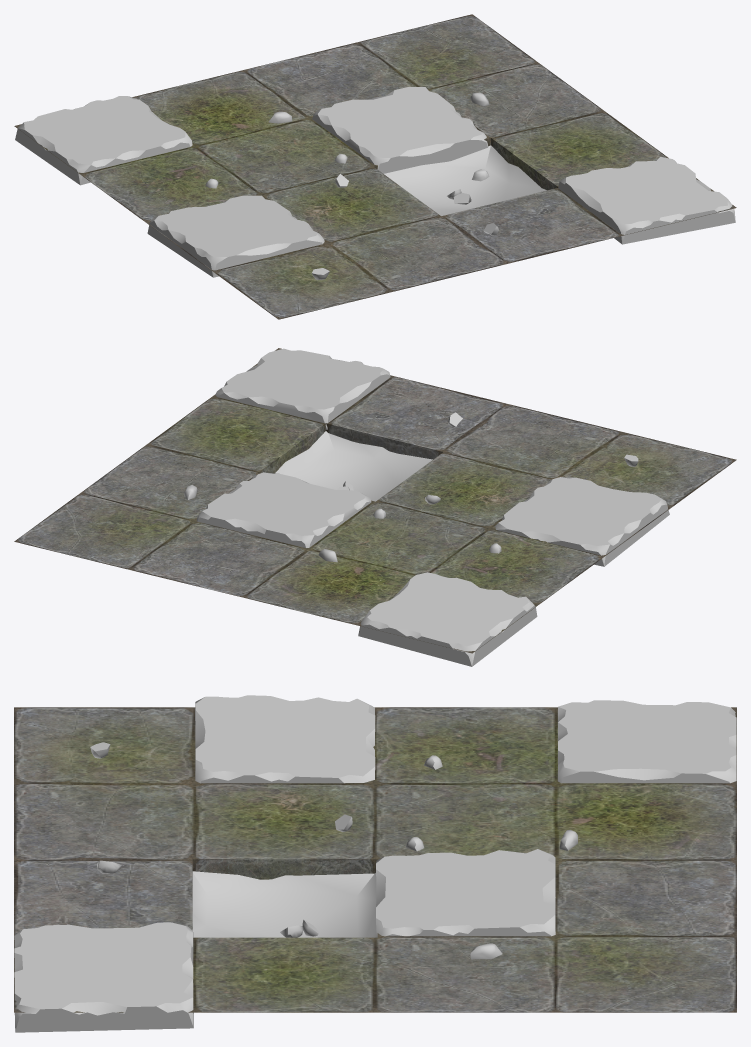
The model's file is Floor_Lvl2_8.fbx.
3 renders of one model, top to bottom at view 1: azimuth 30°, elevation 25°; view 2: azimuth 150°, elevation 25°; view 3: azimuth 270°, elevation 25°, orthographic. The views are drawn at different scales.
Visible parts, largest first — view 1: StoneFloor_Details.004; view 2: StoneFloor_Details.004; view 3: StoneFloor_Details.004.
Boxes of the visible parts, x1=… form: StoneFloor_Details.004: x1=14, y1=14, x2=736, y2=319; StoneFloor_Details.004: x1=14, y1=348, x2=736, y2=666; StoneFloor_Details.004: x1=14, y1=695, x2=736, y2=1032.
Size of the model in its own units: 382 by 31.87 by 382.
